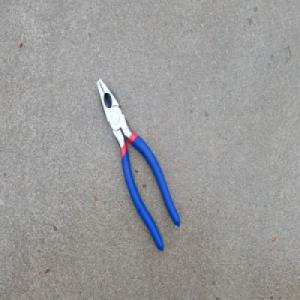Pliers: (95, 76, 181, 254)
